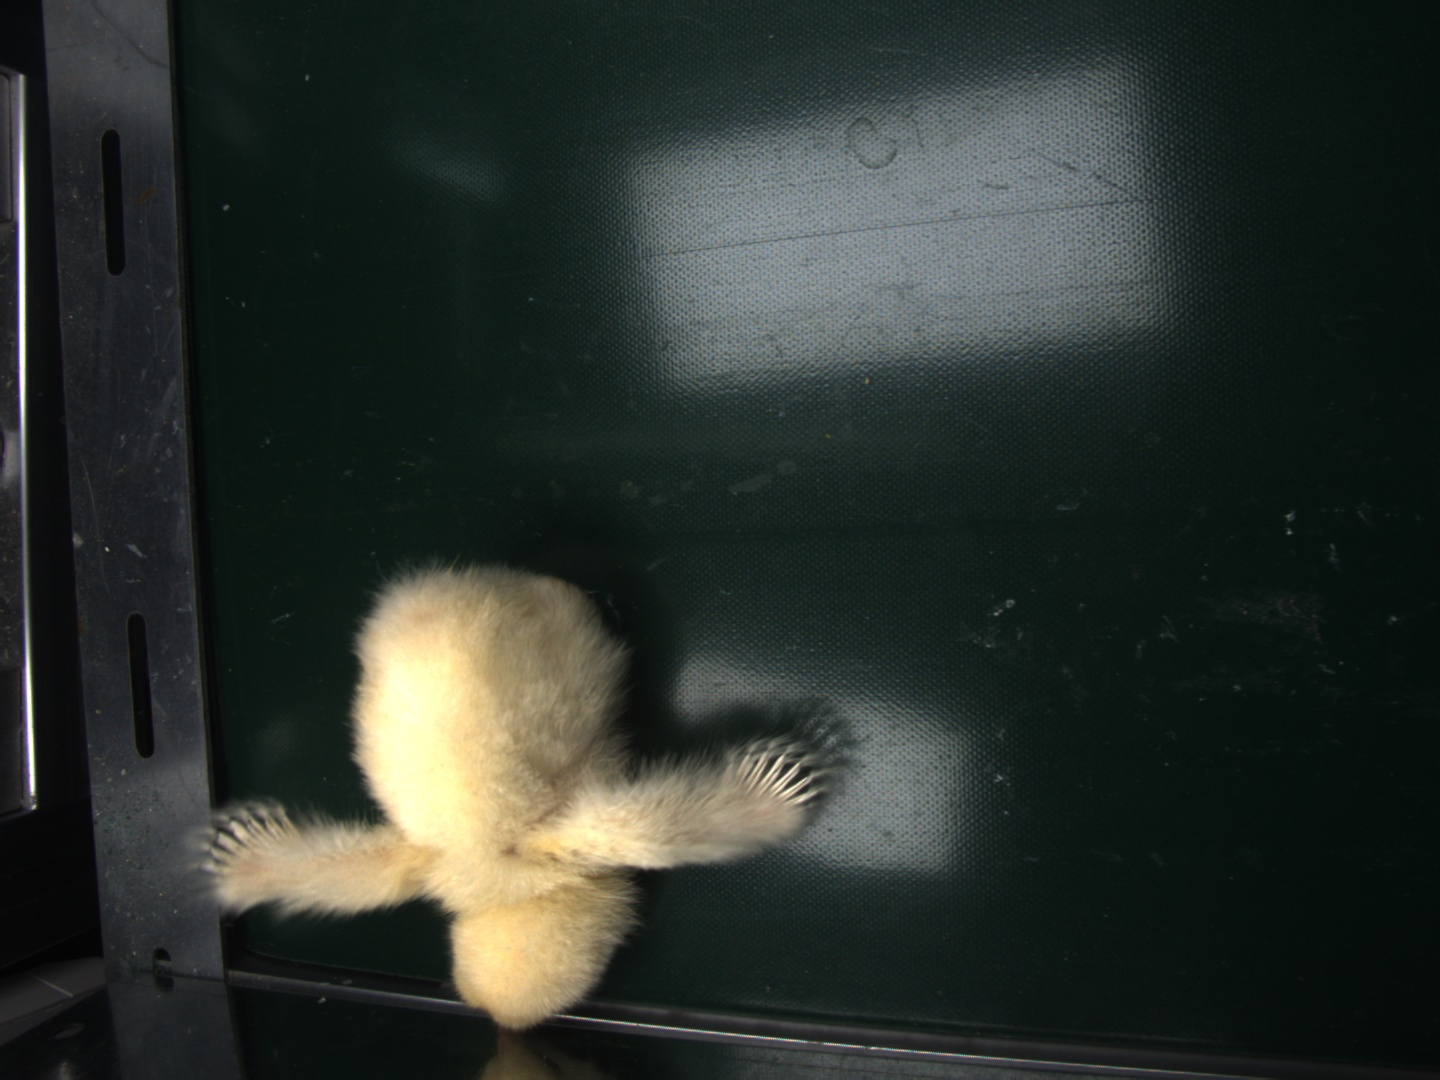male: (734, 746, 814, 808)
